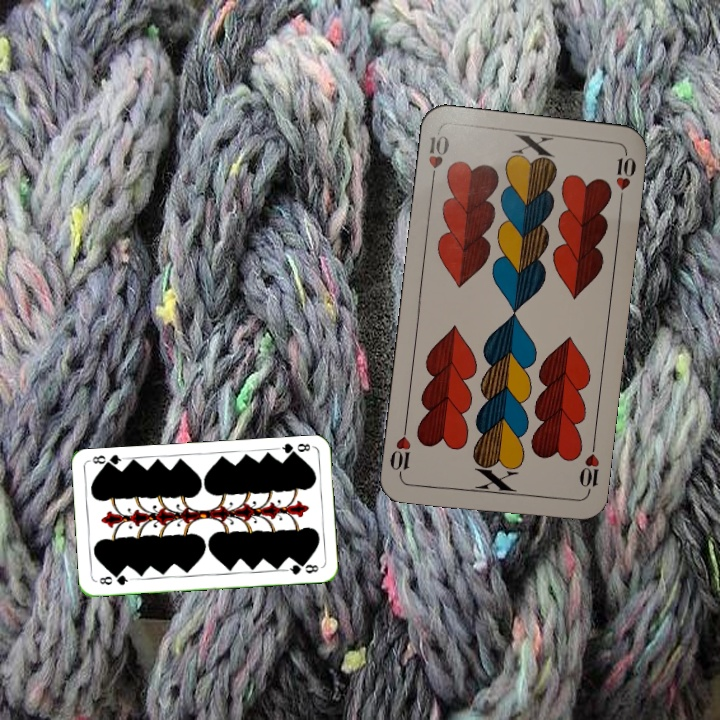G8: (274, 439, 315, 459), (95, 571, 134, 588)
H10: (424, 131, 452, 188), (575, 438, 602, 497)
